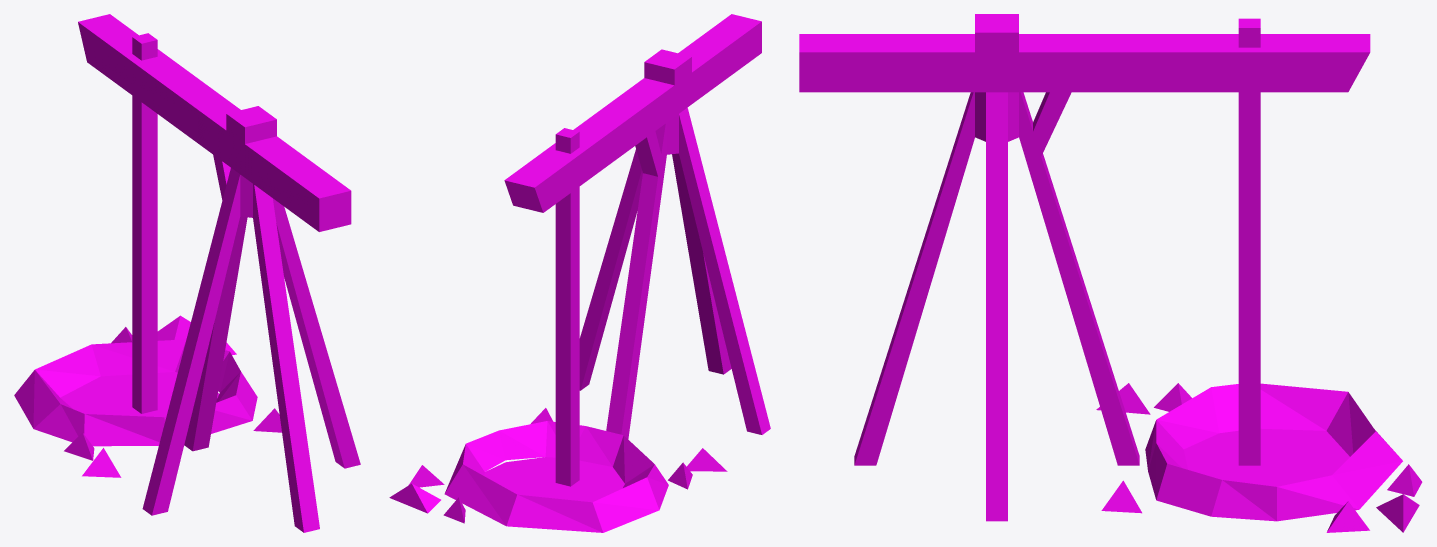
Rendered from liftwinch.obj.
The picture shows the model from 3 angles, left to right: view 1: azimuth 30°, elevation 25°; view 2: azimuth 150°, elevation 25°; view 3: azimuth 270°, elevation 25°; orthographic projection. The views are drawn at different scales.
Parts seen in each view (by area): view 1: liftwinch_back; view 2: liftwinch_back; view 3: liftwinch_back.
Boxes of the visible parts, <box> form: liftwinch_back: <box>14,14,360,532</box>; liftwinch_back: <box>389,14,770,532</box>; liftwinch_back: <box>799,14,1422,532</box>.
Size of the model in its own units: 1.2 by 1.76 by 2.27.
